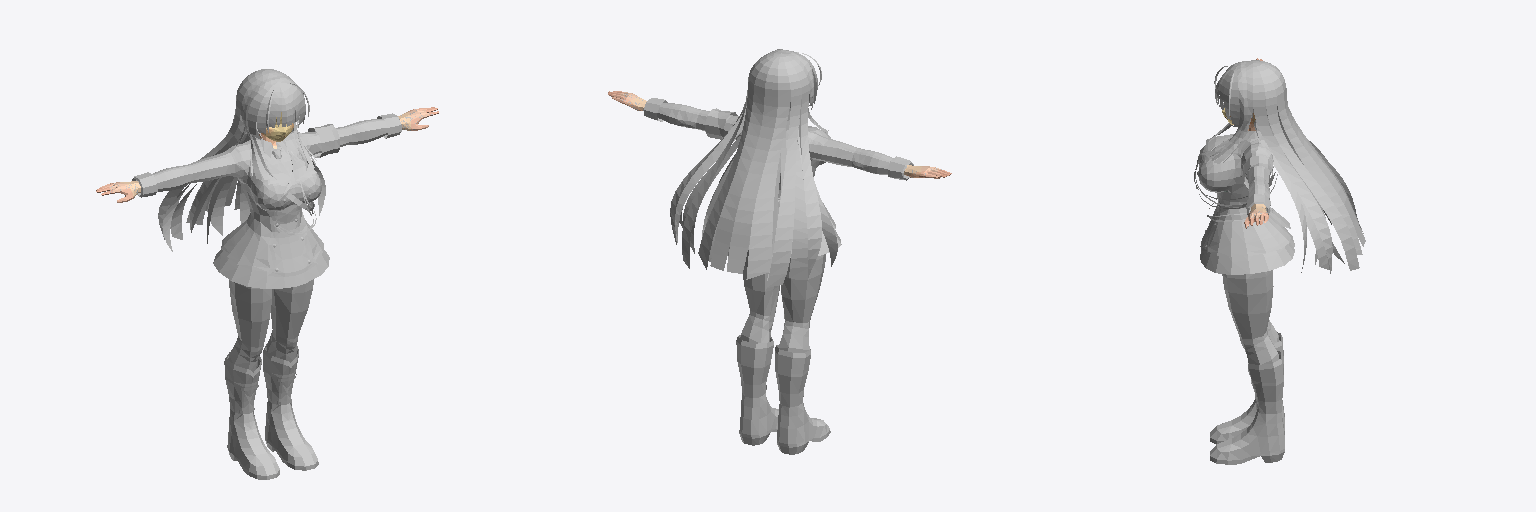
The picture shows the model from 3 angles: view 1: azimuth 30°, elevation 25°; view 2: azimuth 150°, elevation 25°; view 3: azimuth 270°, elevation 25°; orthographic projection.
Parts seen in each view (by area): view 1: vsn_mesh_0_hr_00, vsn_mesh_3_boots_brk01, vsn_mesh_6_cloth_a_big, vsn_mesh_9_cloth_d, vsn_mesh_16_socks_brk0, vsn_mesh_15_skirt_brk01, vsn_mesh_7_cloth_b_big, vsn_mesh_0_arm_brk12; view 2: vsn_mesh_0_hr_00, vsn_mesh_3_boots_brk01, vsn_mesh_16_socks_brk0, vsn_mesh_9_cloth_d, vsn_mesh_0_arm_brk12; view 3: vsn_mesh_0_hr_00, vsn_mesh_3_boots_brk01, vsn_mesh_6_cloth_a_big, vsn_mesh_16_socks_brk0, vsn_mesh_9_cloth_d, vsn_mesh_15_skirt_brk01, vsn_mesh_7_cloth_b_big.
Boxes of the visible parts, box(x1,y1,x2,y2) form: vsn_mesh_0_hr_00: box(158, 69, 325, 251); vsn_mesh_3_boots_brk01: box(224, 343, 318, 479); vsn_mesh_6_cloth_a_big: box(221, 154, 323, 276); vsn_mesh_9_cloth_d: box(132, 113, 401, 235); vsn_mesh_16_socks_brk0: box(228, 279, 313, 372); vsn_mesh_15_skirt_brk01: box(213, 249, 329, 288); vsn_mesh_7_cloth_b_big: box(243, 136, 316, 202); vsn_mesh_0_arm_brk12: box(96, 107, 438, 202); vsn_mesh_0_hr_00: box(670, 49, 837, 287); vsn_mesh_3_boots_brk01: box(736, 335, 830, 454); vsn_mesh_16_socks_brk0: box(740, 250, 825, 352); vsn_mesh_9_cloth_d: box(644, 98, 913, 201); vsn_mesh_0_arm_brk12: box(608, 91, 951, 178); vsn_mesh_0_hr_00: box(1209, 60, 1365, 273); vsn_mesh_3_boots_brk01: box(1210, 332, 1284, 464); vsn_mesh_6_cloth_a_big: box(1198, 145, 1290, 256); vsn_mesh_16_socks_brk0: box(1222, 270, 1279, 364); vsn_mesh_9_cloth_d: box(1207, 142, 1273, 221); vsn_mesh_15_skirt_brk01: box(1200, 227, 1294, 274); vsn_mesh_7_cloth_b_big: box(1197, 131, 1260, 174).
Bounding box in the file's own units: 2.21 × 2.37 × 0.9588.
6 materials, 3 textured.